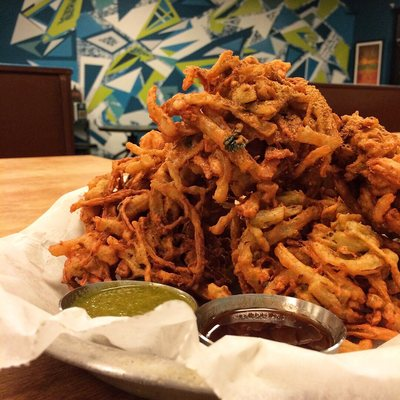sushi: (196, 294, 347, 353)
